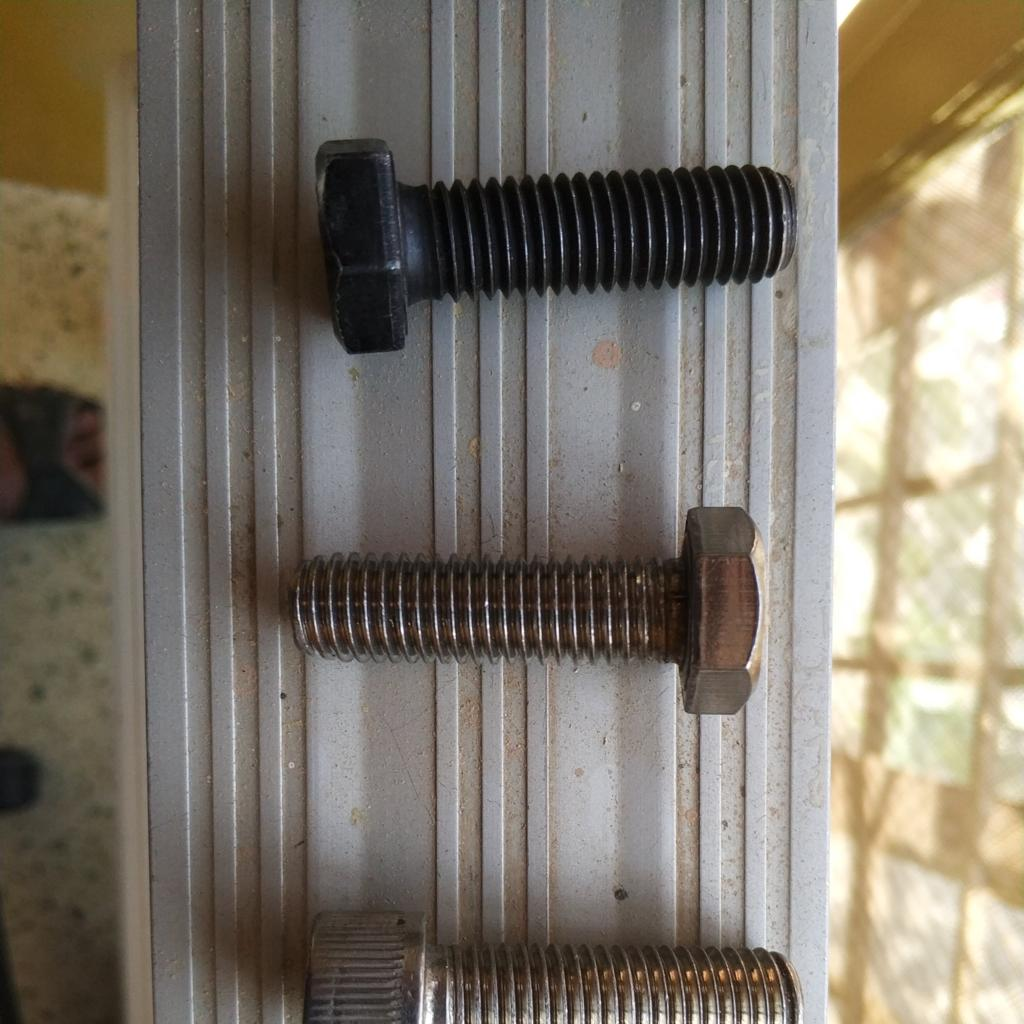screwtype1silver: (300, 915, 806, 1022)
screwtype2black: (300, 128, 796, 353)
screwtype2silver: (288, 495, 768, 731)
